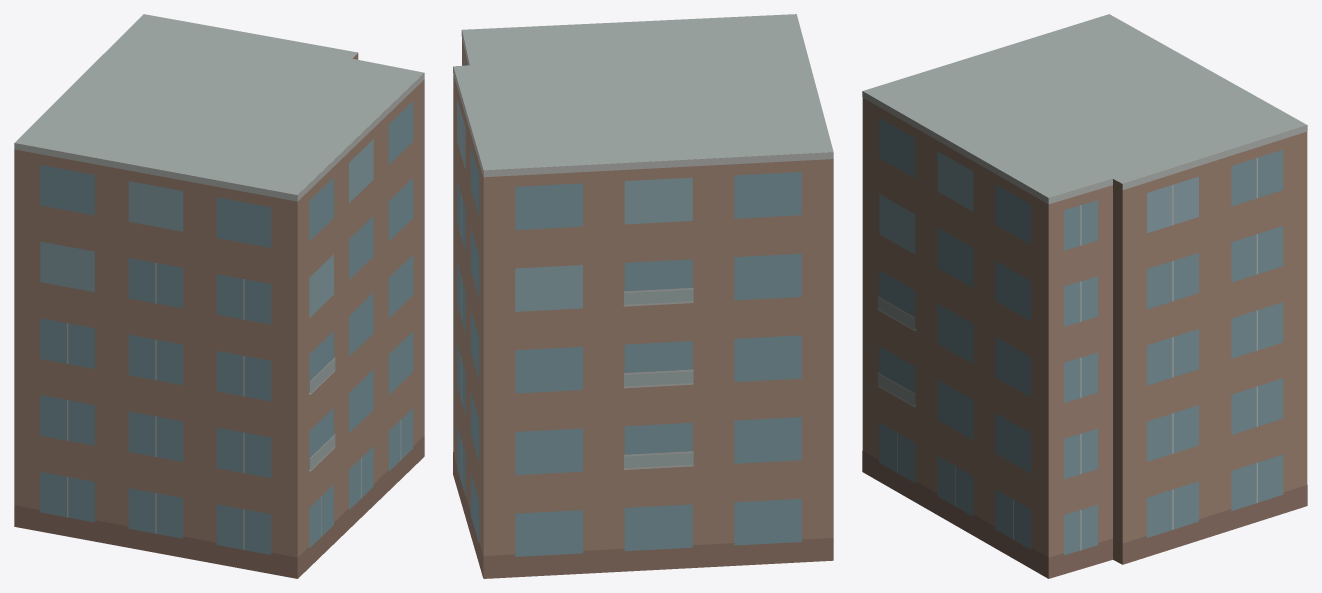
File: survey-upis-32526850.glb
The picture shows the model from 3 angles, left to right: view 1: azimuth 30°, elevation 25°; view 2: azimuth 150°, elevation 25°; view 3: azimuth 270°, elevation 25°; orthographic projection. The views are drawn at different scales.
Visible parts, largest first — view 1: survey-upis-32526850.tmp; view 2: survey-upis-32526850.tmp; view 3: survey-upis-32526850.tmp.
Part boxes in pixels (x1,y1,x2,y2): survey-upis-32526850.tmp: (14,14,424,578); survey-upis-32526850.tmp: (453,14,833,578); survey-upis-32526850.tmp: (862,14,1307,578).
Bounding box in the file's own units: 15.03 × 14.5 × 15.36.
